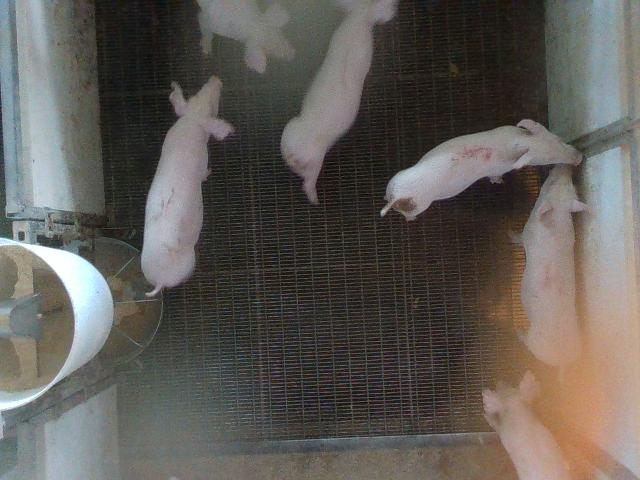pig-4: (510, 164, 586, 366)
pig-5: (381, 119, 582, 220)
